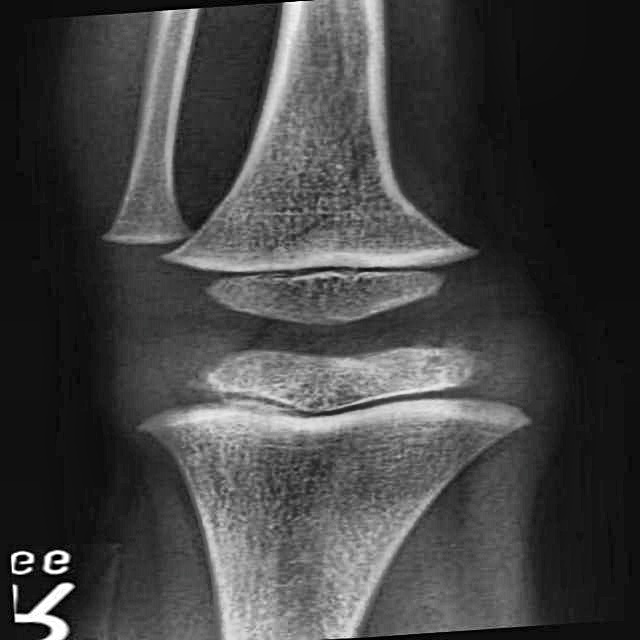Oblique Displaced: (235, 186, 405, 262)
